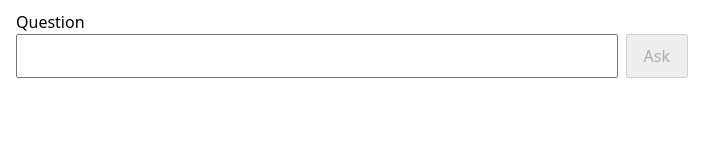
it: AskForm › shows Request failed on a network failure
Type "What is alpha?" into the field labelled "Question" at (317, 56), box [16,34,618,78]
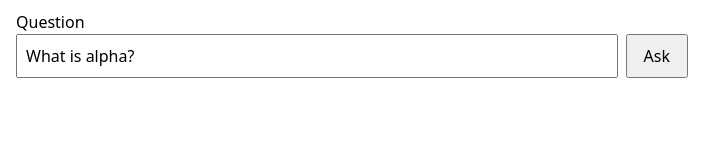
Click the button "Ask" at (657, 56), box [626,34,688,78]
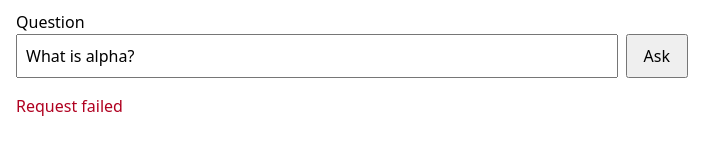
Result: the button "Ask" is enabled at [626,34,688,78]
Result: the message reads "Request failed" at [16,95,123,117]
